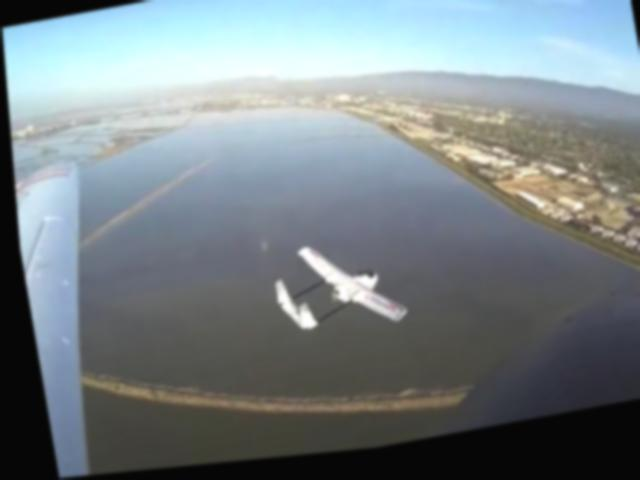iha: (254, 225, 411, 349)
